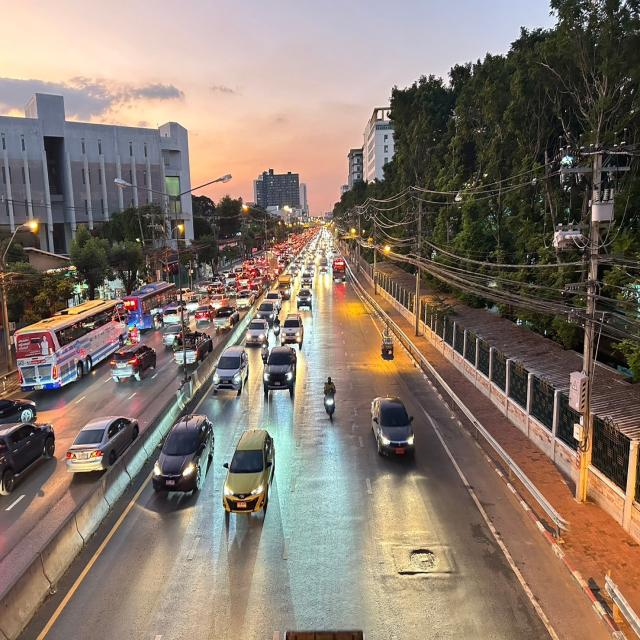bike: (317, 367, 341, 430)
